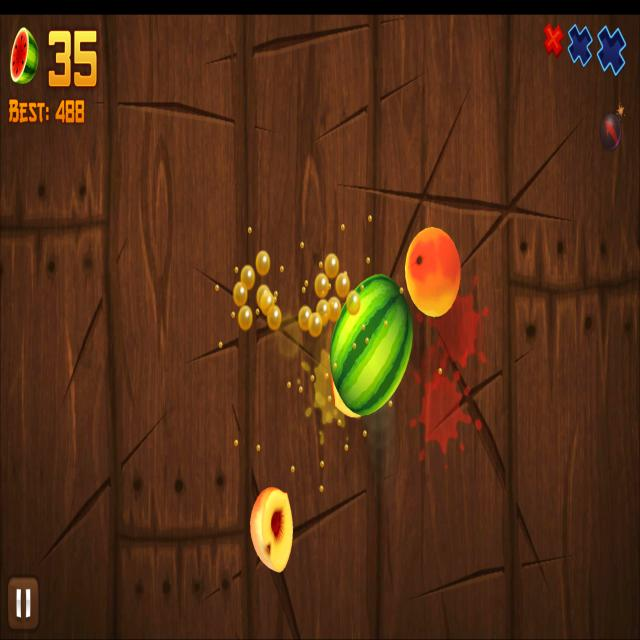fruit: (329, 273, 414, 415), (404, 226, 462, 318)
